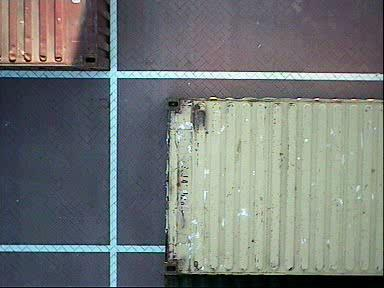groundmarker_2: (184, 164, 211, 209)
